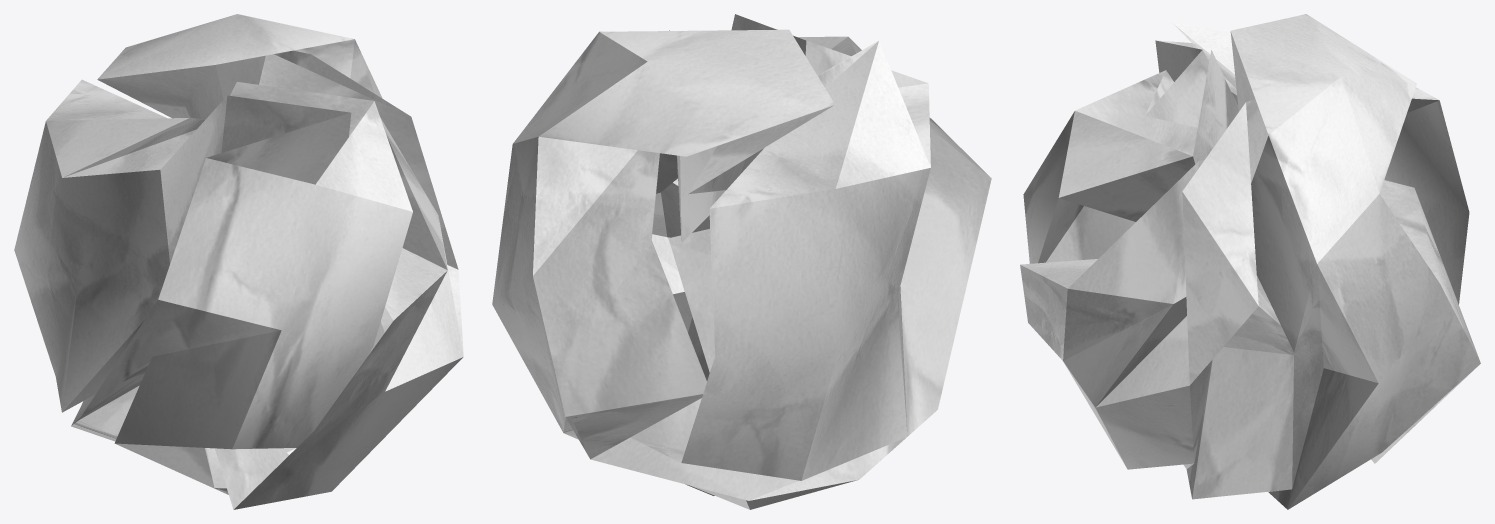
File: Papier.fbx
The picture shows the model from 3 angles, left to right: view 1: azimuth 30°, elevation 25°; view 2: azimuth 150°, elevation 25°; view 3: azimuth 270°, elevation 25°; orthographic projection. The views are drawn at different scales.
Visible parts, largest first — view 1: Papier; view 2: Papier; view 3: Papier.
Part boxes in pixels (x1=…): Papier: x1=14, y1=14, x2=463, y2=509; Papier: x1=492, y1=14, x2=991, y2=509; Papier: x1=1020, y1=14, x2=1480, y2=509.
Bounding box in the file's own units: 249 × 281 × 270.
Materials: 1 (1 with a texture image).
